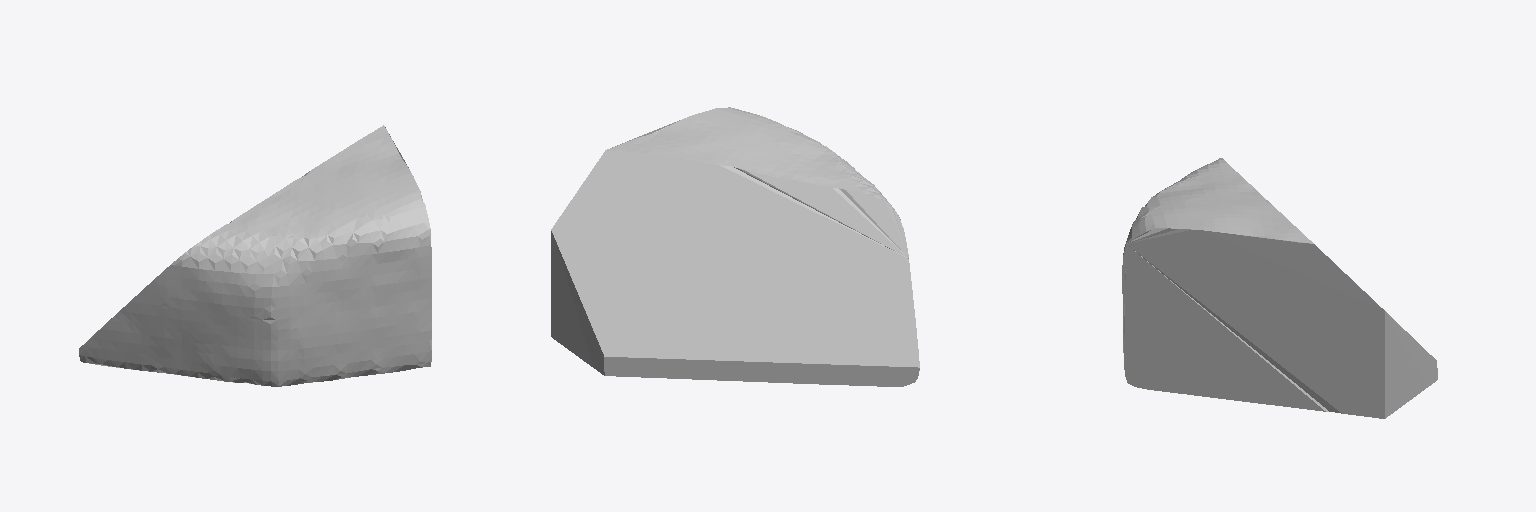
File: low_cell_059.obj
3 views of the same model, side by side, from view 1: azimuth 30°, elevation 25°; view 2: azimuth 150°, elevation 25°; view 3: azimuth 270°, elevation 25° (orthographic).
Parts seen in each view (by area): view 1: low_cell.059_low_cell.058; view 2: low_cell.059_low_cell.058; view 3: low_cell.059_low_cell.058.
Boxes of the visible parts, x1=… form: low_cell.059_low_cell.058: x1=79, y1=125, x2=431, y2=386; low_cell.059_low_cell.058: x1=551, y1=107, x2=919, y2=386; low_cell.059_low_cell.058: x1=1122, y1=158, x2=1437, y2=418.
Size of the model in its own units: 0.6455 by 0.311 by 0.5354.